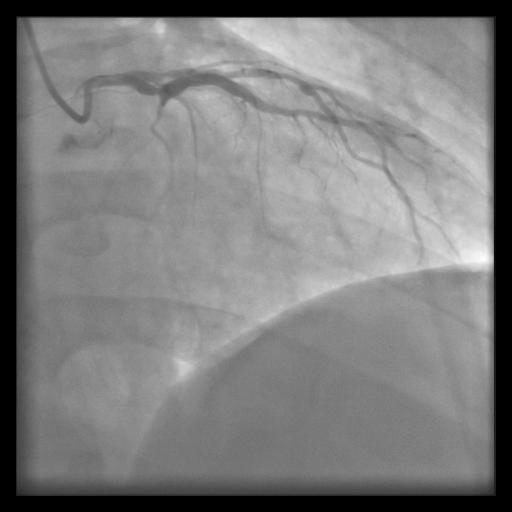Stenosis: (145, 78, 173, 100)
